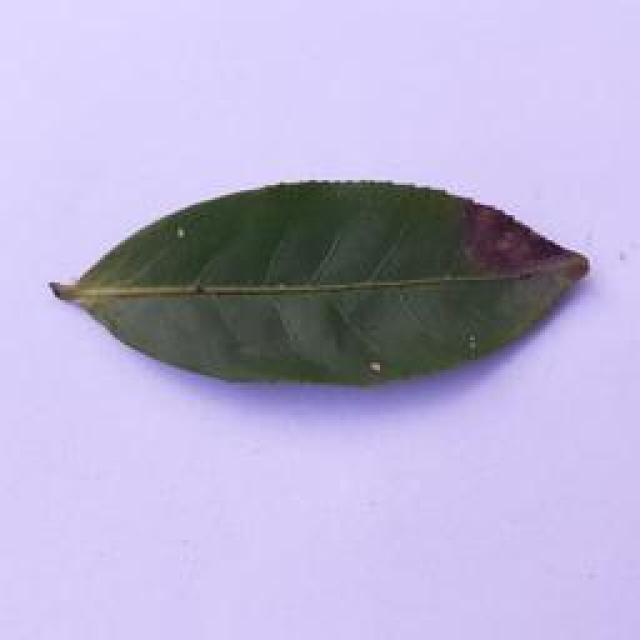Brown Blight: (37, 177, 604, 387)
